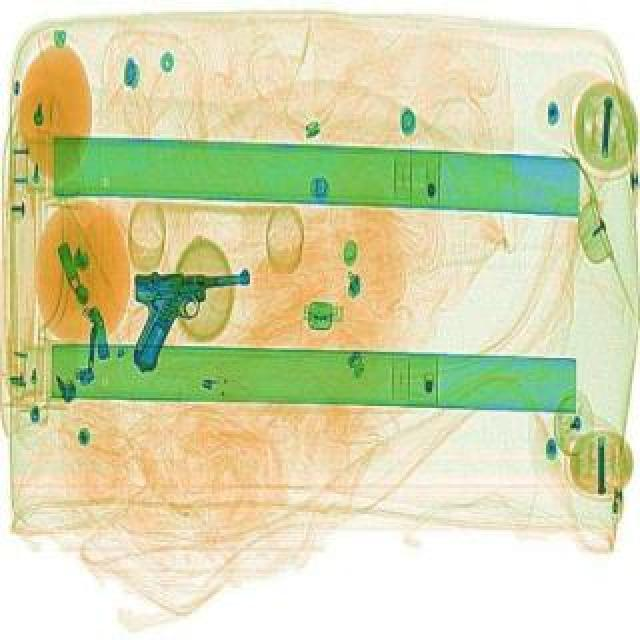gun: (132, 270, 250, 368)
